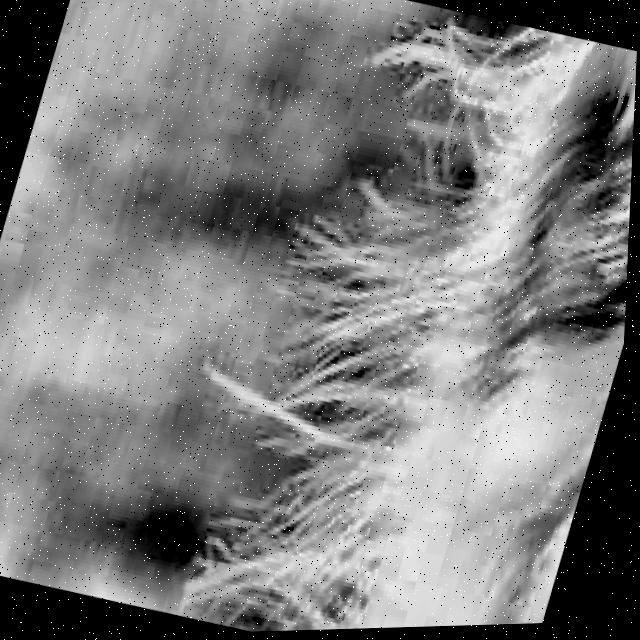dog: (117, 0, 640, 636)
